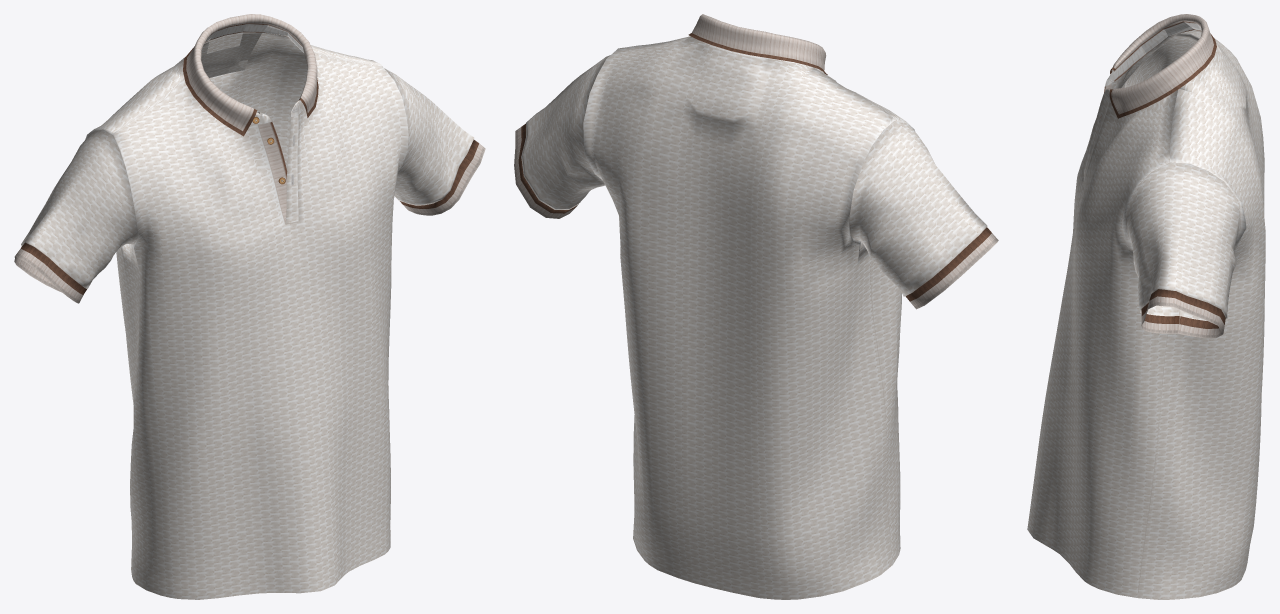
The picture shows the model from 3 angles, left to right: view 1: azimuth 30°, elevation 25°; view 2: azimuth 150°, elevation 25°; view 3: azimuth 270°, elevation 25°; orthographic projection. The views are drawn at different scales.
Parts seen in each view (by area): view 1: Camisa_1; view 2: Camisa_1; view 3: Camisa_1.
Boxes of the visible parts, <box> form: Camisa_1: <box>14,14,485,599</box>; Camisa_1: <box>514,14,998,599</box>; Camisa_1: <box>1027,14,1265,599</box>.
Bounding box in the file's own units: 0.702 × 0.7691 × 0.3162.
1 material, 1 textured.
